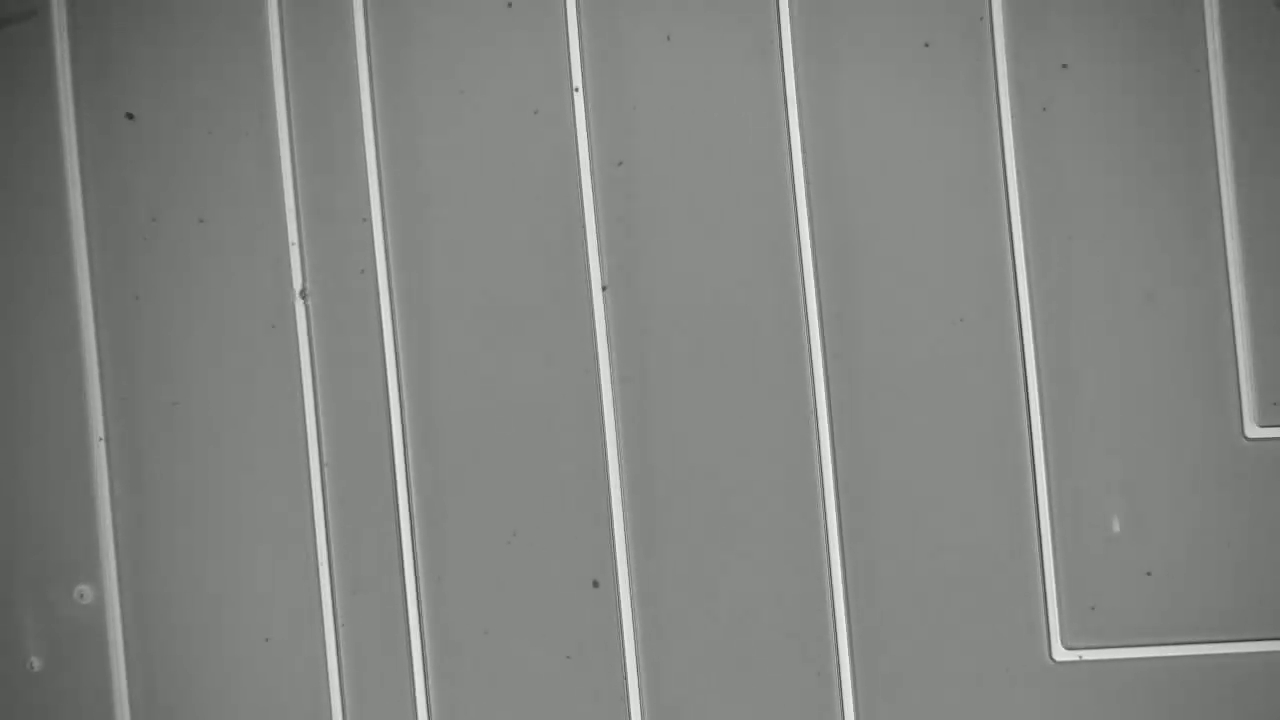stains_enbedded: (284, 279, 315, 309)
